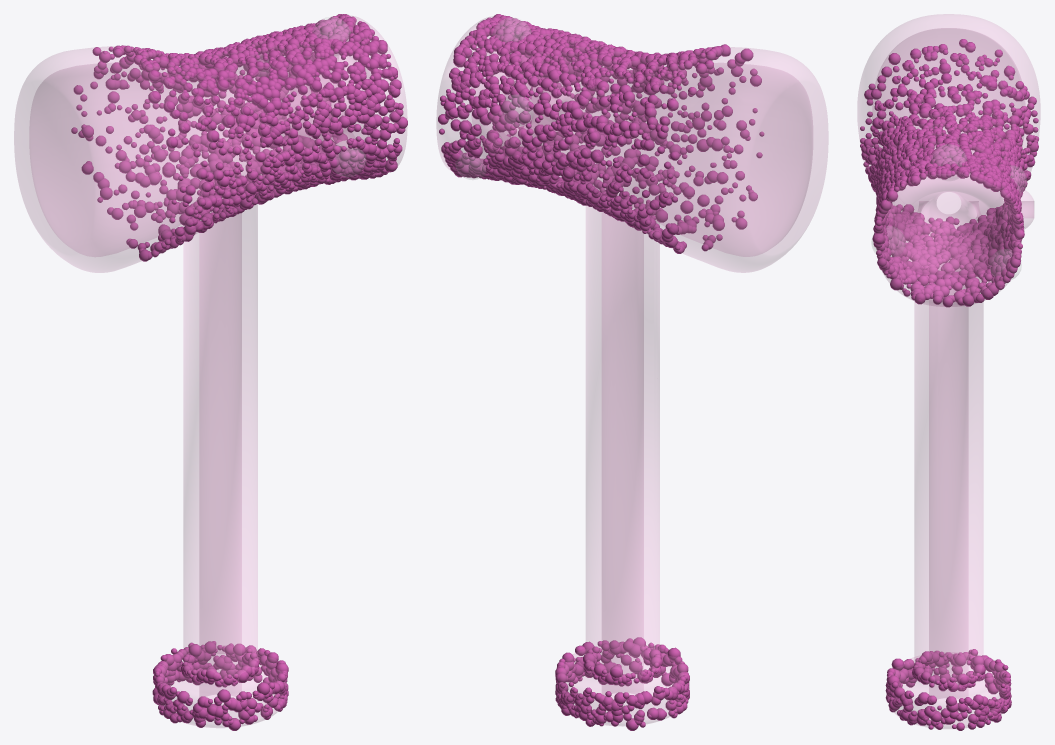
File: hammer_flat_magenta_gold.glb
3 renders of one model, left to right at view 1: azimuth 30°, elevation 25°; view 2: azimuth 150°, elevation 25°; view 3: azimuth 270°, elevation 25°, orthographic. The views are drawn at different scales.
Visible parts, largest first — view 1: body, frit, marbles; view 2: body, frit, marbles; view 3: body, frit, marbles.
Part boxes in pixels (x1,y1,x2,y2): body: (14, 16, 407, 727); frit: (71, 14, 407, 730); marbles: (257, 17, 365, 176); body: (436, 16, 828, 726); frit: (438, 14, 764, 730); marbles: (455, 17, 533, 179); body: (857, 14, 1040, 728); frit: (860, 39, 1038, 730); marbles: (871, 144, 1026, 279).
Size of the model in its own units: 0.0682 by 0.1405 by 0.0371.
